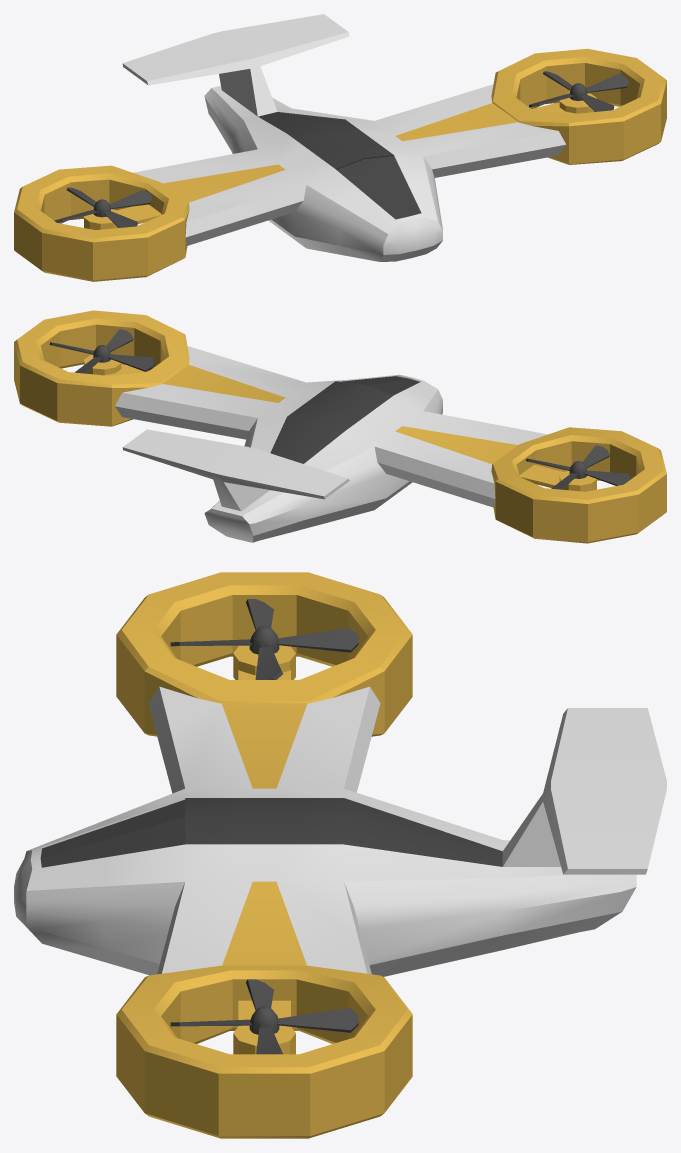
The model's file is ship_16.fbx.
The picture shows the model from 3 angles, top to bottom: view 1: azimuth 30°, elevation 25°; view 2: azimuth 150°, elevation 25°; view 3: azimuth 270°, elevation 25°; orthographic projection. The views are drawn at different scales.
Parts seen in each view (by area): view 1: body, engines, fan_2, fan_1; view 2: body, engines, fan_2, fan_1; view 3: body, engines, fan_1, fan_2.
Boxes of the visible parts, x1=… form: body: x1=122, y1=14, x2=566, y2=261; engines: x1=14, y1=48, x2=666, y2=281; fan_2: x1=529, y1=71, x2=628, y2=111; fan_1: x1=54, y1=187, x2=151, y2=227; body: x1=115, y1=346, x2=547, y2=542; engines: x1=14, y1=310, x2=666, y2=543; fan_2: x1=49, y1=329, x2=154, y2=373; fan_1: x1=526, y1=445, x2=630, y2=489; body: x1=14, y1=686, x2=666, y2=976; engines: x1=116, y1=572, x2=412, y2=1138; fan_1: x1=170, y1=599, x2=358, y2=679; fan_2: x1=170, y1=979, x2=358, y2=1054.
Size of the model in its own units: 1785 by 272 by 987.
